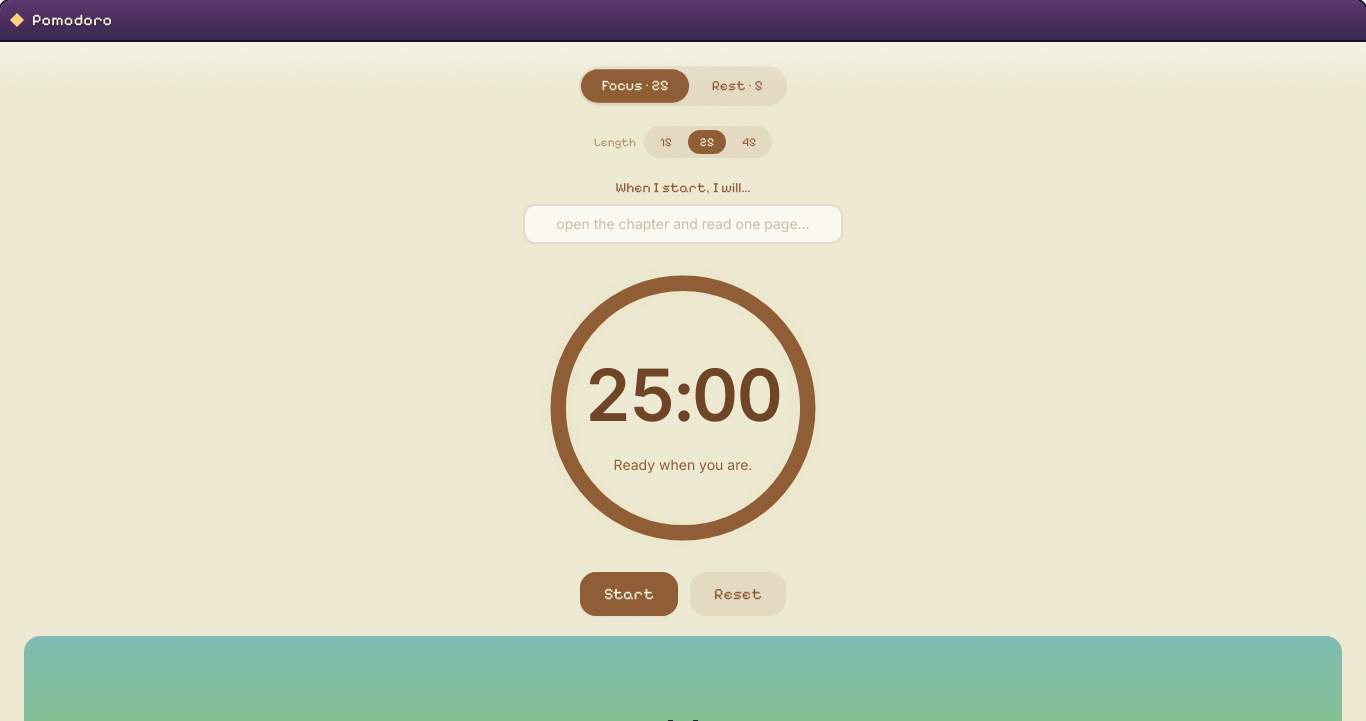
Scenario: PomodoroTimer — session bloom + harvest ceremony › the ceremony shows her intention back and its Continue button also advances
Type "read one page" into the field labelled "When I start, I will…" at [683, 224], box top-left (523, 204), bottom-right (843, 244)
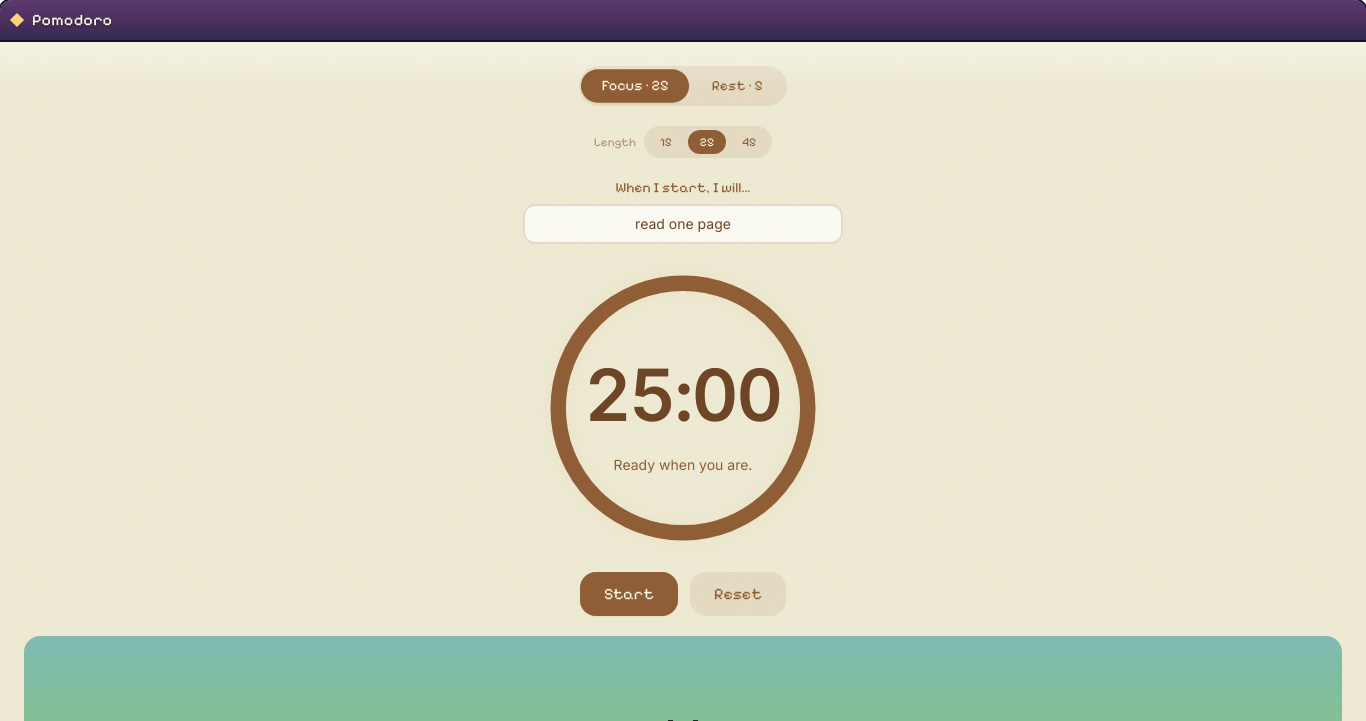
Click the button "Start" at [629, 594], box top-left (580, 572), bottom-right (678, 616)
Wait 1500000 ms
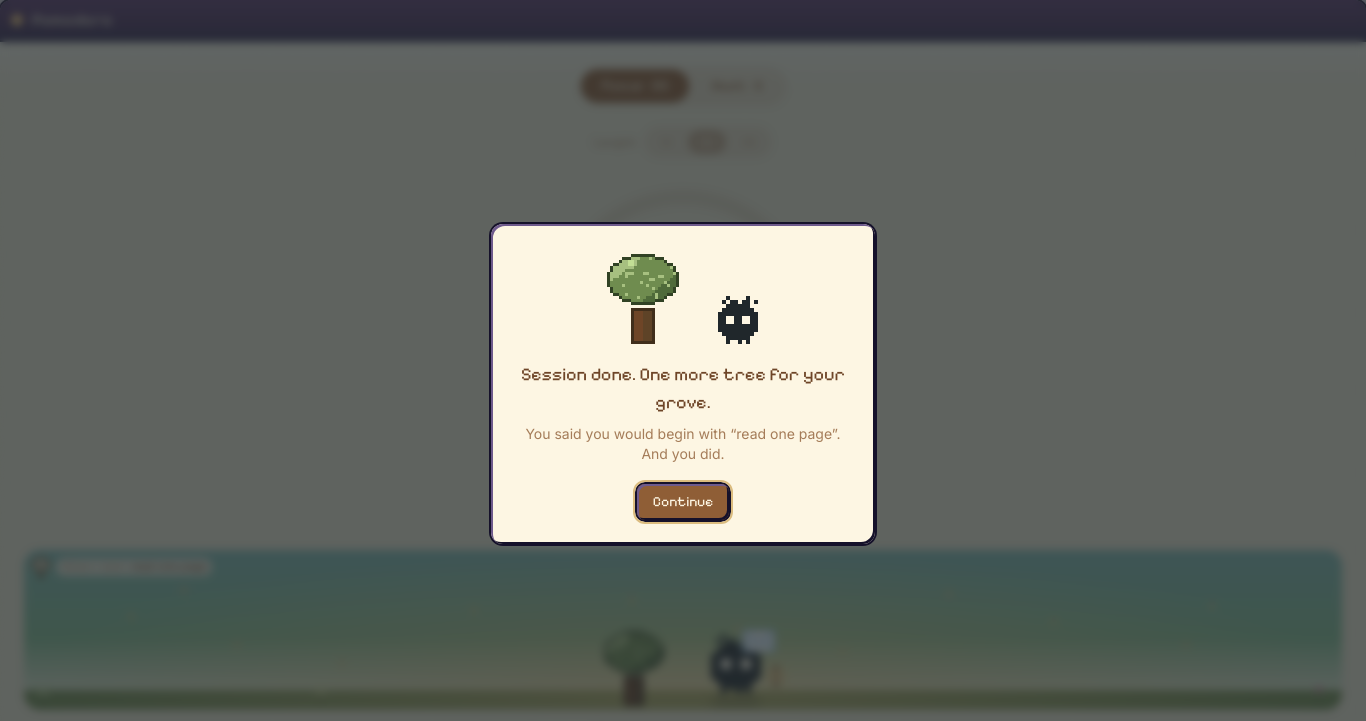
Now the dialog named "a little harvest" shows "read one page", box top-left (736, 425), bottom-right (832, 442)
Click the button "Continue" at [683, 502], box top-left (637, 484), bottom-right (729, 520)
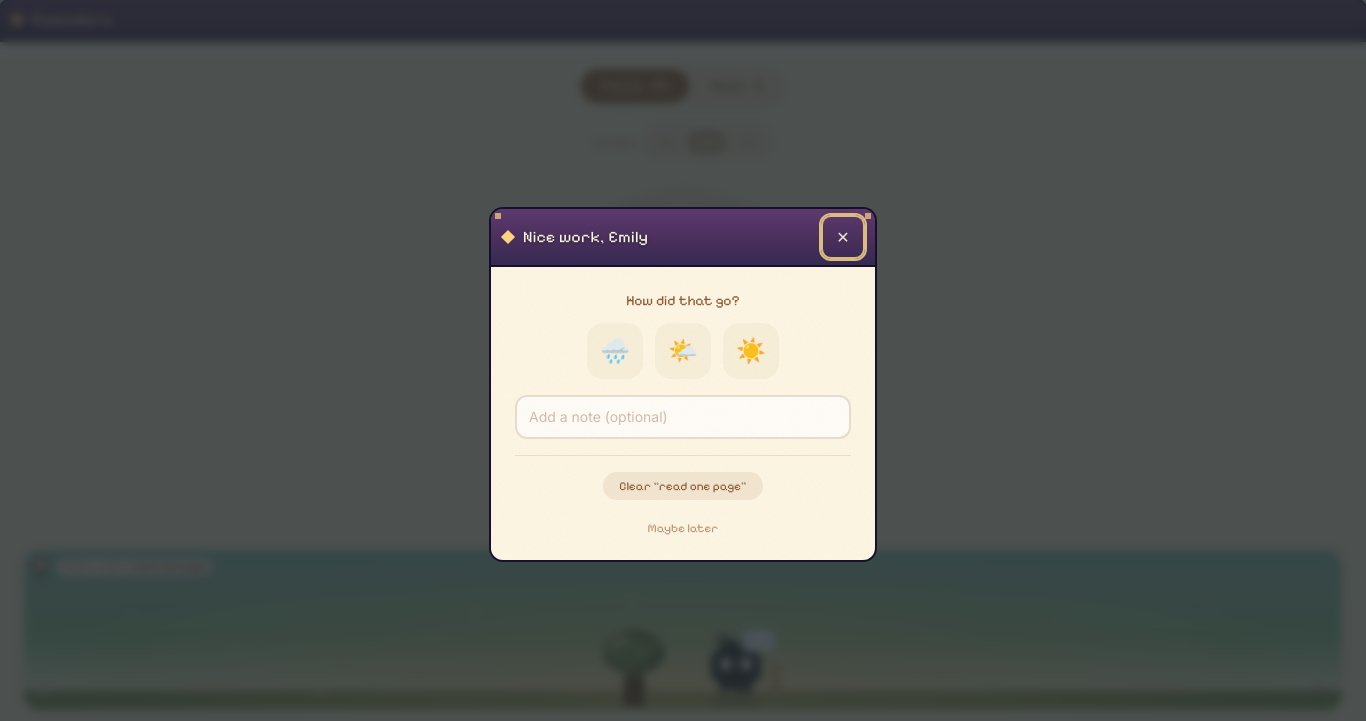
Now the dialog named "session reflection" is shown, box top-left (491, 208), bottom-right (875, 560)
